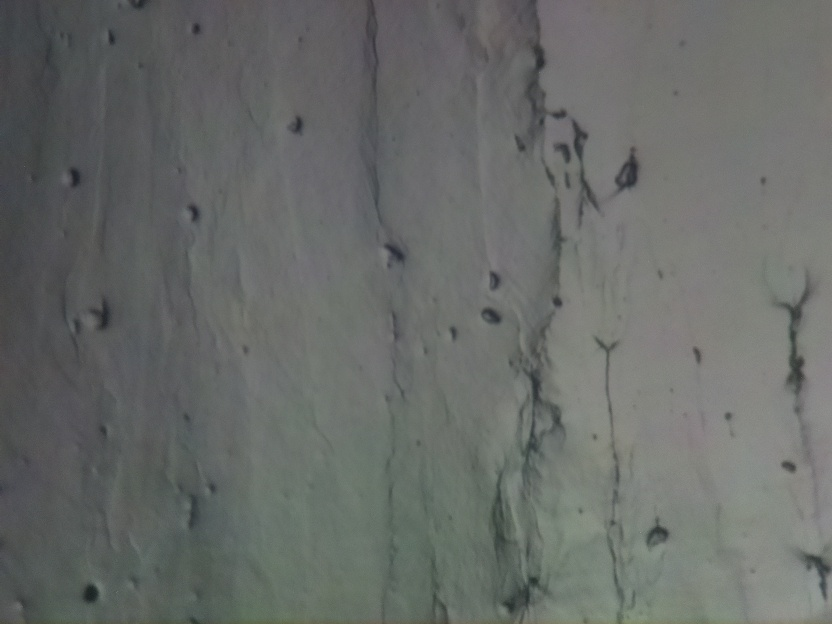crack: (772, 275, 819, 444)
